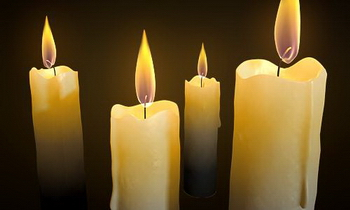Fire: (134, 28, 157, 107), (274, 0, 300, 63), (37, 14, 58, 69), (195, 42, 210, 78)
